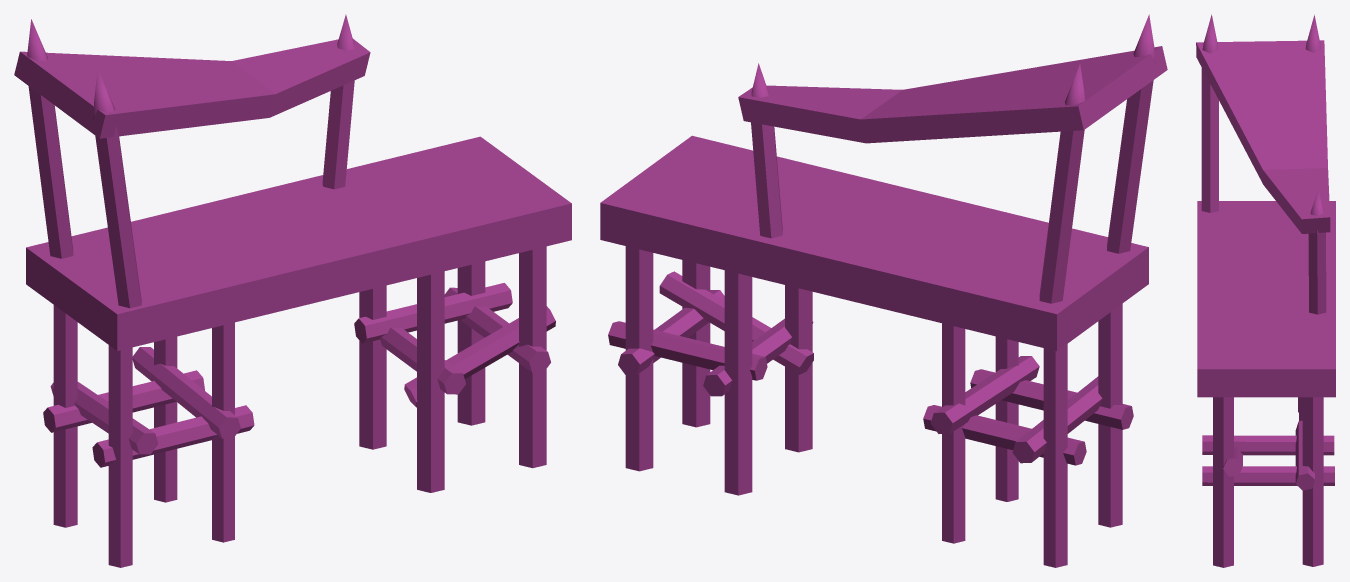
File: SM_Bld_Tent_Basic_Platform_02_Collision.fbx
The picture shows the model from 3 angles, left to right: view 1: azimuth 30°, elevation 25°; view 2: azimuth 150°, elevation 25°; view 3: azimuth 270°, elevation 25°; orthographic projection. The views are drawn at different scales.
Parts seen in each view (by area): view 1: SM_Bld_Tent_Basic_Platform_02_Collision; view 2: SM_Bld_Tent_Basic_Platform_02_Collision; view 3: SM_Bld_Tent_Basic_Platform_02_Collision.
Part boxes in pixels (bbox=[...]): SM_Bld_Tent_Basic_Platform_02_Collision: bbox=[14, 14, 571, 567]; SM_Bld_Tent_Basic_Platform_02_Collision: bbox=[600, 14, 1167, 567]; SM_Bld_Tent_Basic_Platform_02_Collision: bbox=[1196, 14, 1335, 567].
Bounding box in the file's own units: 879 × 888 × 292.
